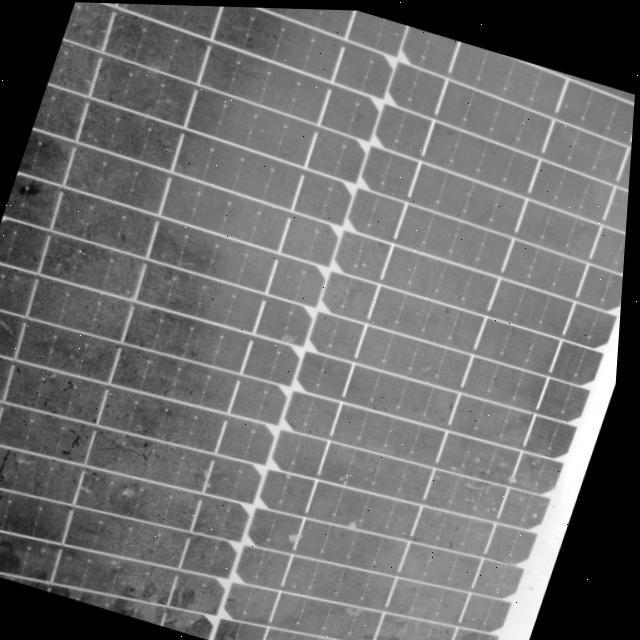Surface Contaminant: (0, 2, 636, 640)
